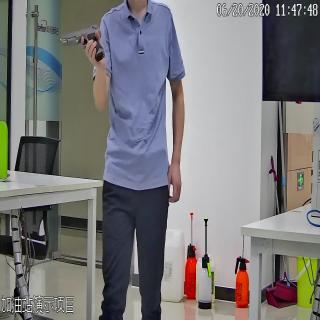gun: (56, 22, 105, 58)
